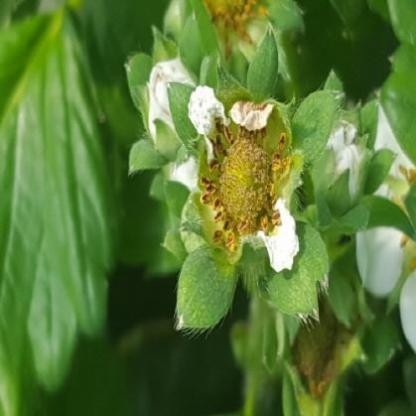Strawberry_Blossom_Blight: (195, 109, 303, 263)
